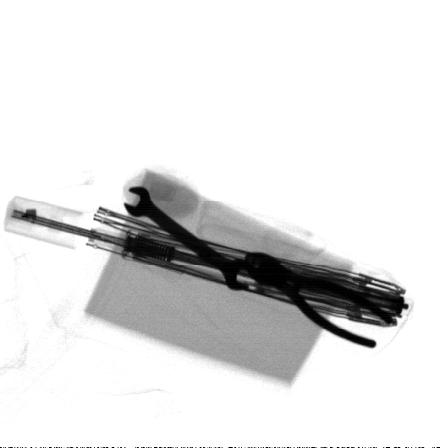Pliers: (243, 250, 396, 350)
Wrench: (123, 185, 259, 290)
